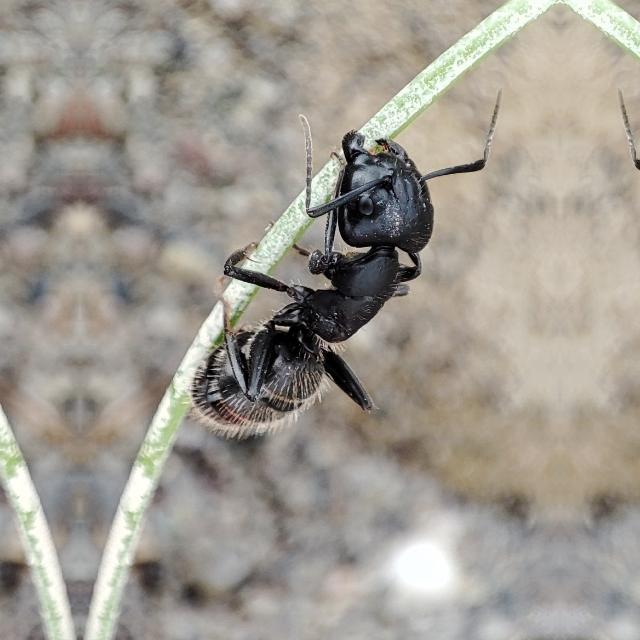Camponotus: (152, 46, 492, 484)
